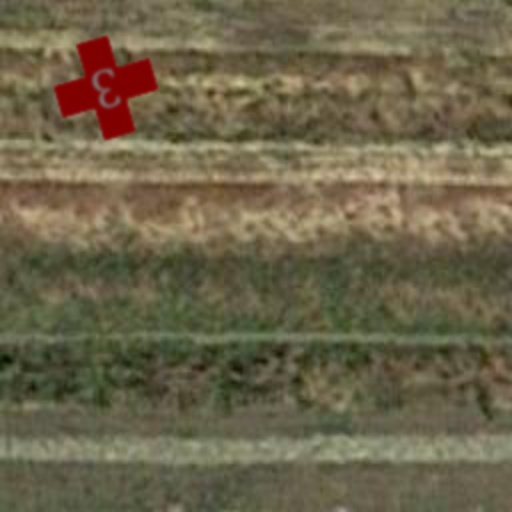cross: (42, 24, 170, 152)
